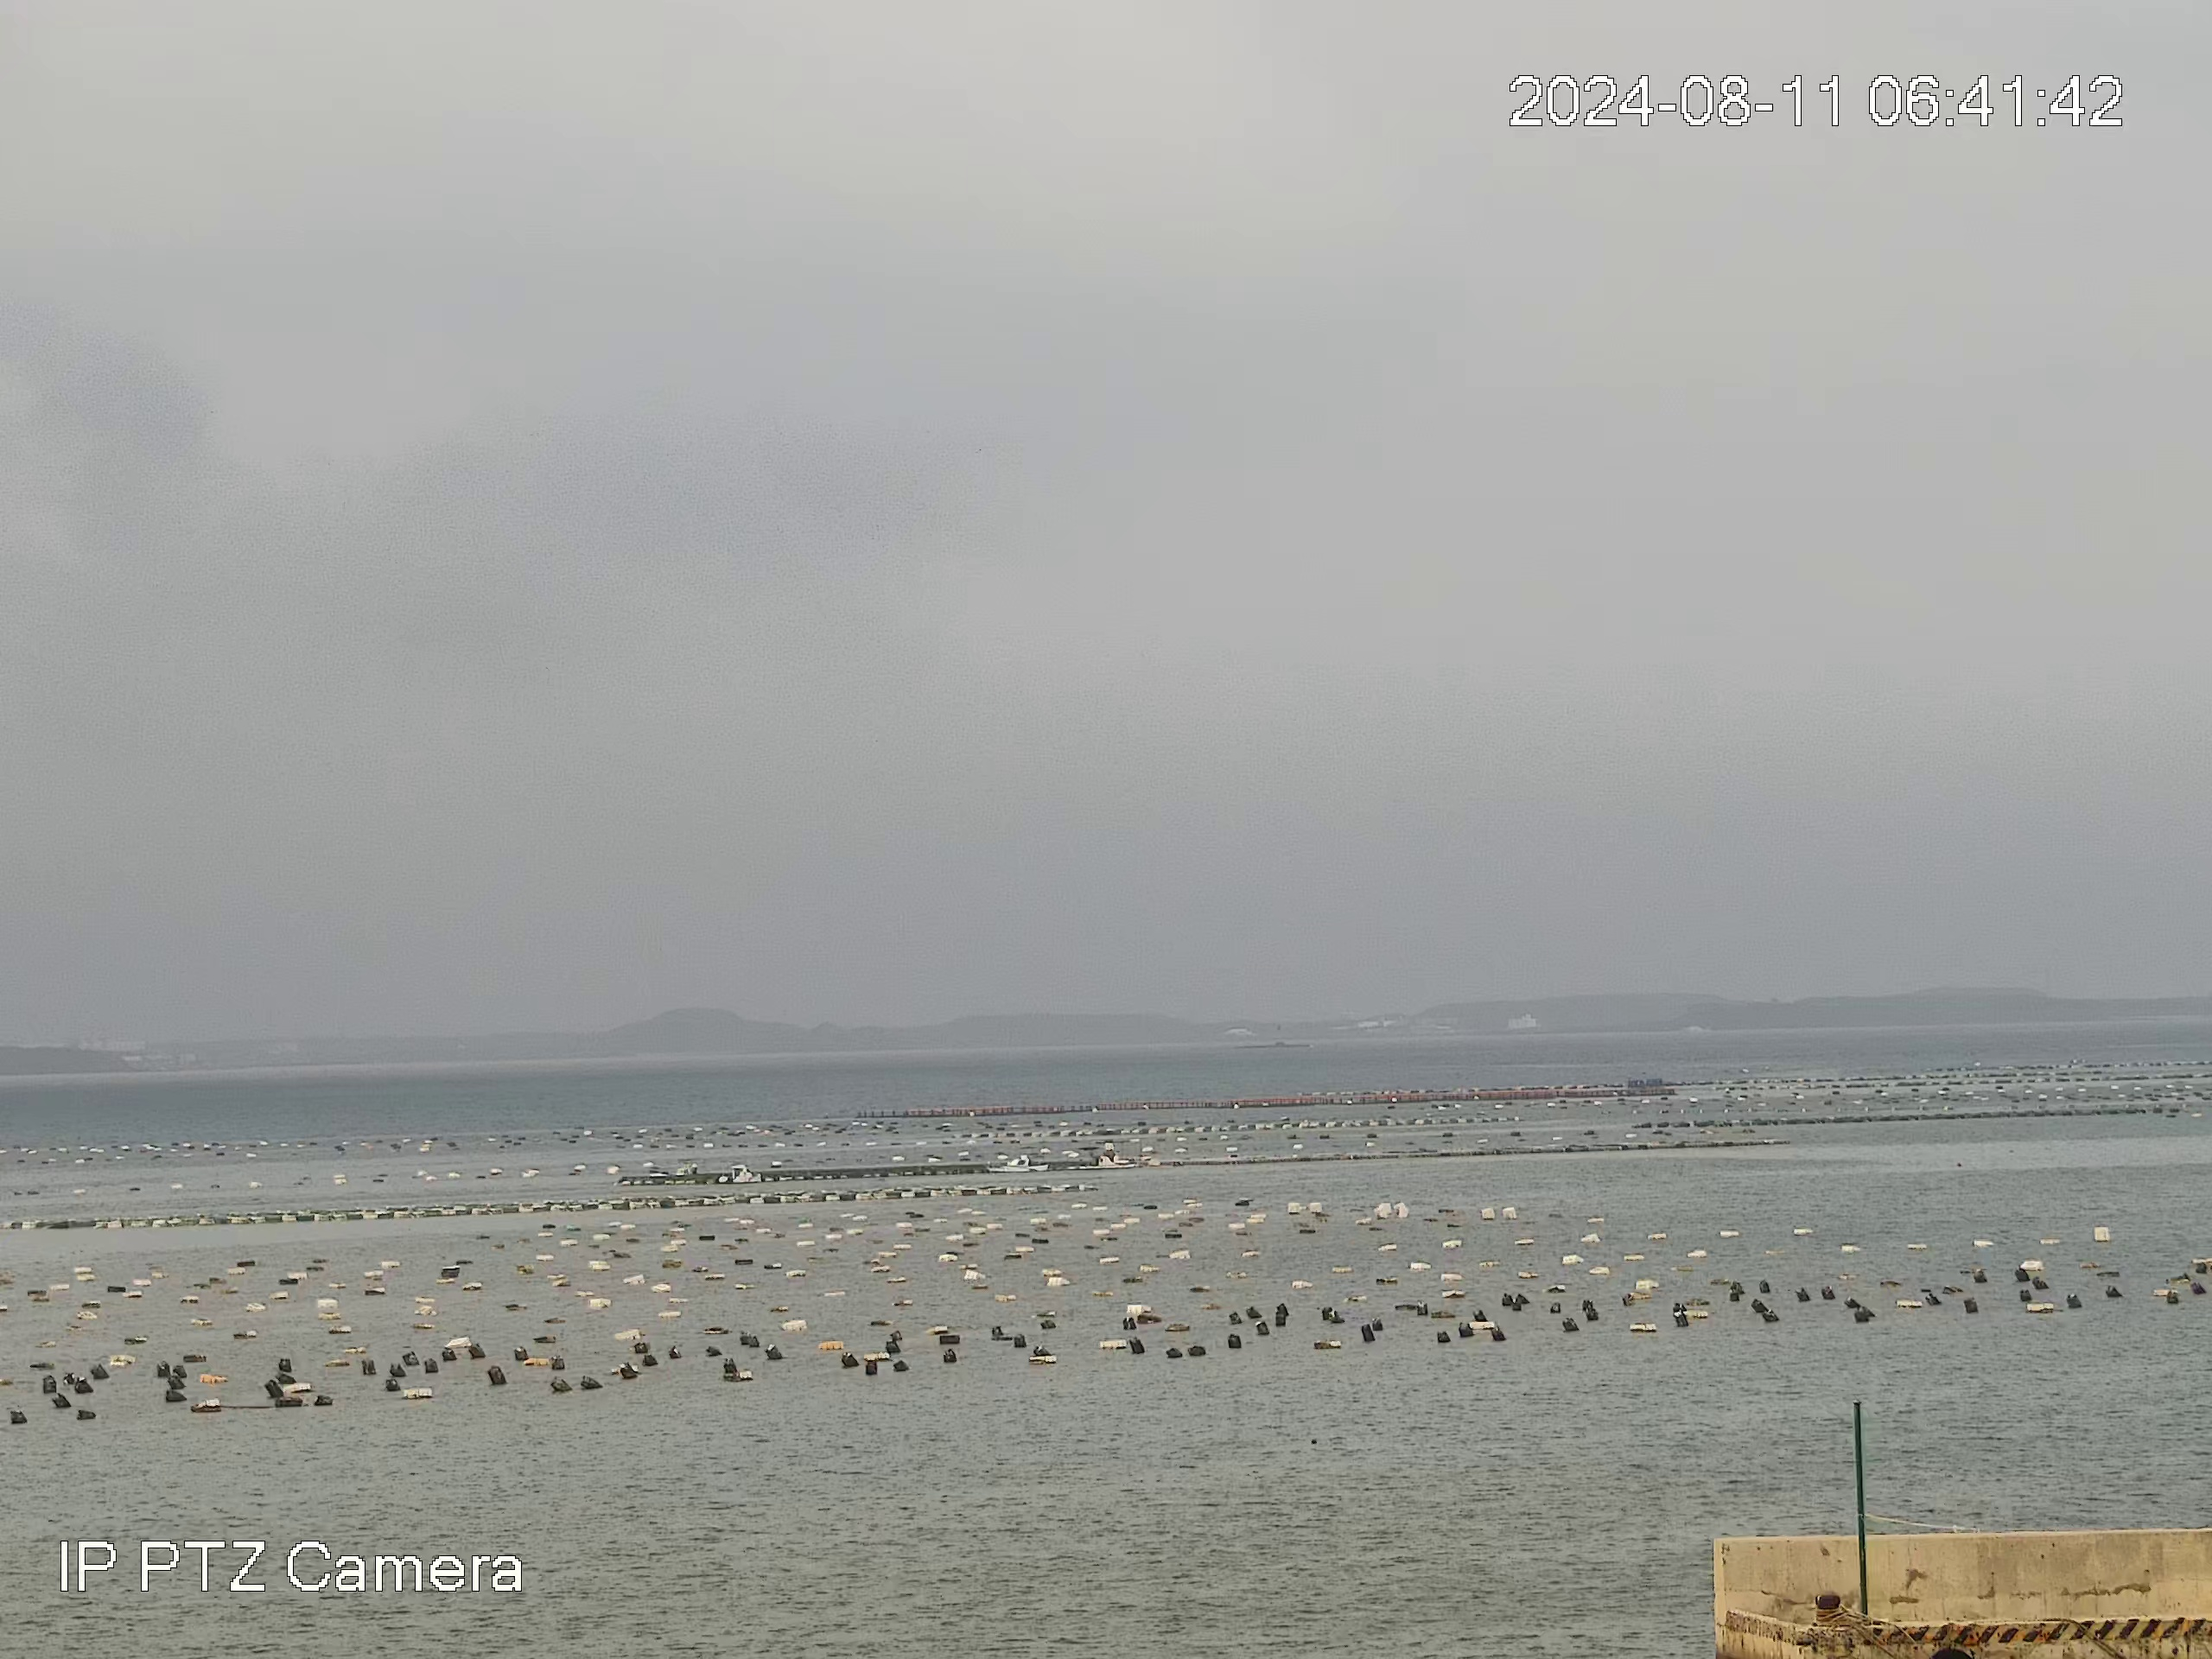boat: (984, 1154, 1052, 1175), (1062, 1152, 1123, 1171), (718, 1164, 763, 1185)
